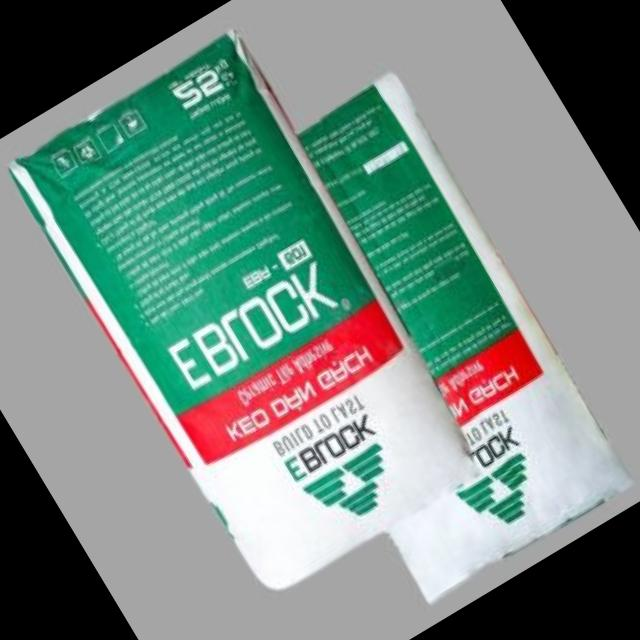KantongSemen: (2, 25, 500, 608), (181, 65, 640, 604)
